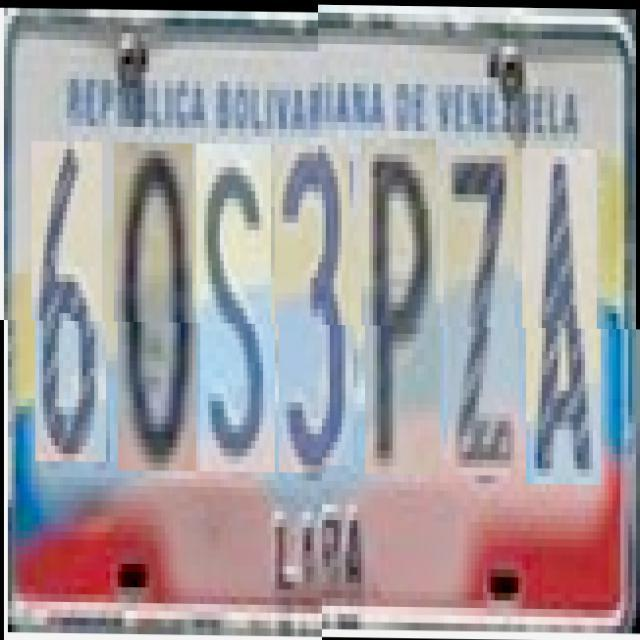3: (278, 144, 354, 472)
6: (35, 141, 106, 462)
A: (526, 154, 601, 490)
O: (118, 142, 196, 471)
P: (365, 145, 440, 481)
S: (200, 143, 275, 472)
Z: (448, 153, 518, 482)
